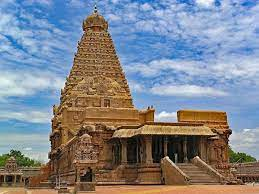Temple: (53, 5, 163, 173)
